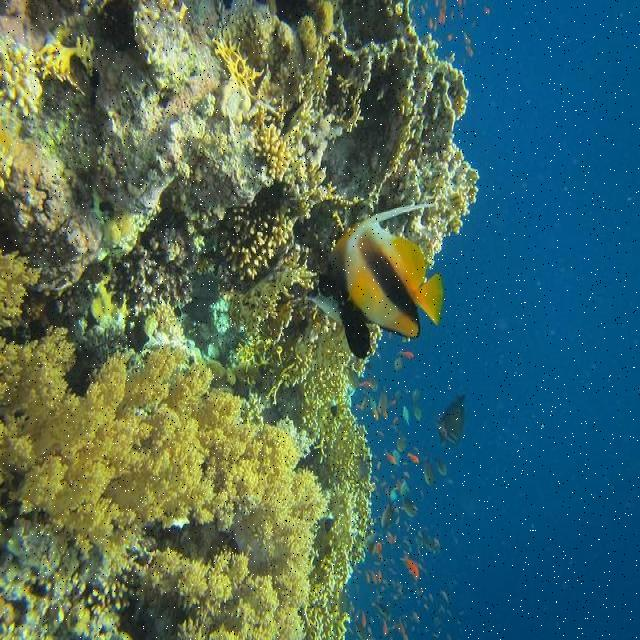fish: (300, 199, 446, 361)
reefs: (1, 246, 328, 636), (218, 250, 383, 639)
